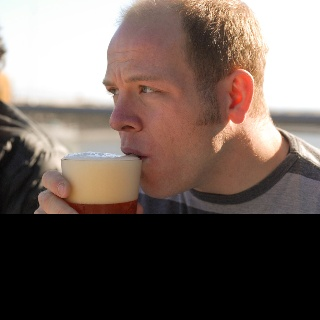without_mask: (101, 18, 230, 199)
